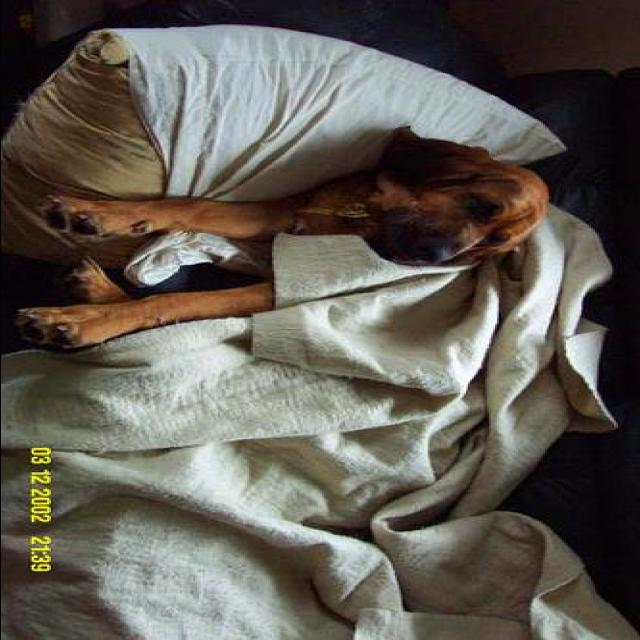bloodhound: (13, 124, 550, 348)
